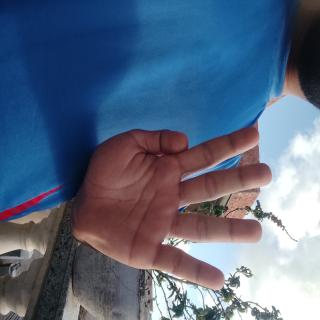SHEEN: (85, 58, 215, 320)
